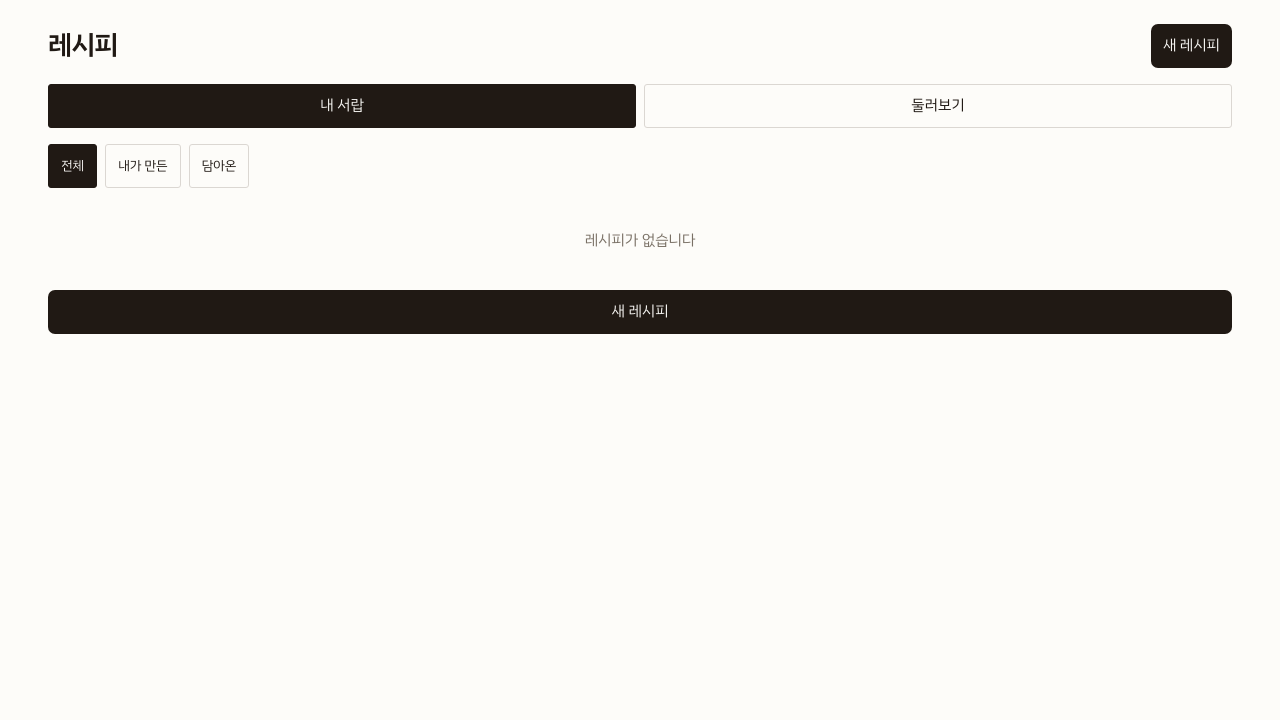
Test: RecipesPage › AC-RECIPESBREWS-84 · 둘러보기 결과 0건이면 안내 카드가 뜬다
The width and height of the screenshot is (1280, 720).
Click the tab "둘러보기" at (938, 106), box [644,84,1232,128]
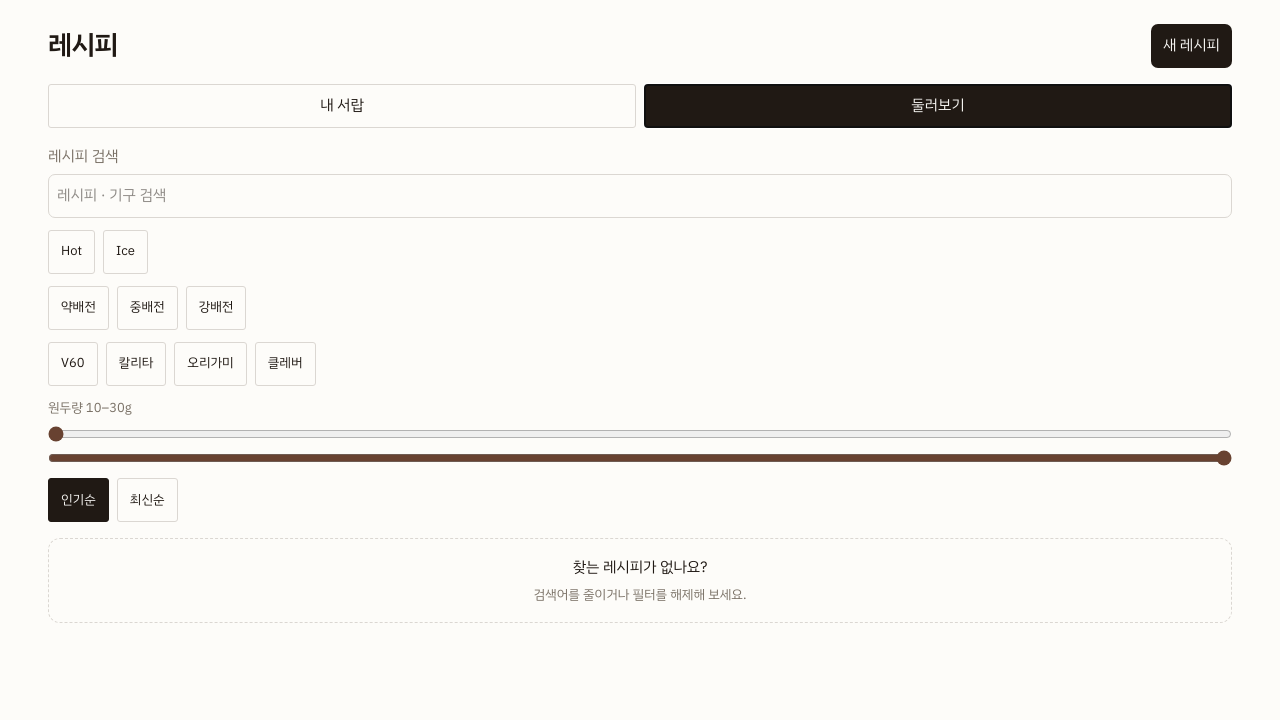
Check: the text "찾는 레시피가 없나요?" is shown, box [573,556,707,578]
Check: the text "검색어를 줄이거나 필터를 해제해 보세요." is shown, box [534,585,746,604]
